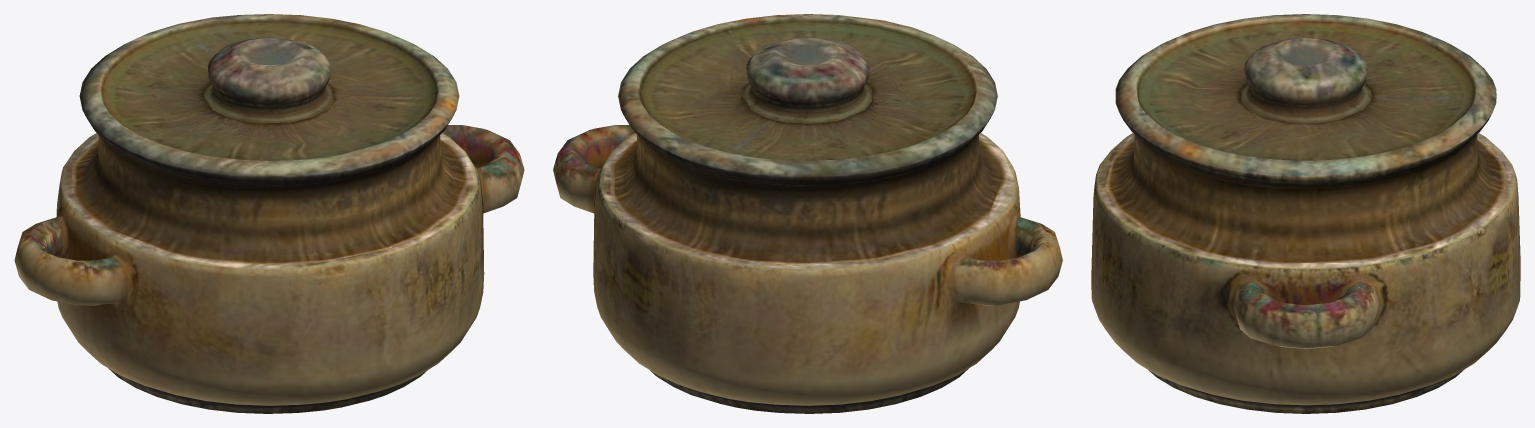
File: ceramic_pot.glb
3 renders of one model, left to right at view 1: azimuth 30°, elevation 25°; view 2: azimuth 150°, elevation 25°; view 3: azimuth 270°, elevation 25°, orthographic.
Visible parts, largest first — view 1: ceramic_pot; view 2: ceramic_pot; view 3: ceramic_pot.
Boxes of the visible parts, <box> form: ceramic_pot: <box>14,14,524,413</box>; ceramic_pot: <box>553,14,1062,413</box>; ceramic_pot: <box>1091,14,1520,413</box>.
Bounding box in the file's own units: 0.6563 × 0.3716 × 0.5005.
Materials: 1 (1 with a texture image).
